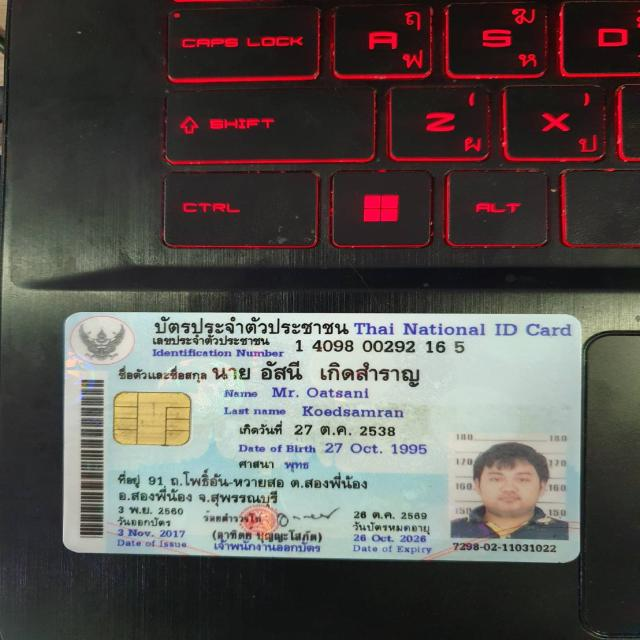Address_th: (114, 467, 374, 507)
Date_of_Birth: (318, 438, 434, 460)
Date_of_Expiry: (345, 531, 437, 545)
Date_of_Issue: (114, 524, 188, 542)
First_Name: (266, 383, 374, 402)
ID_Number: (289, 336, 473, 358)
Image: (449, 430, 572, 542)
Last_Name: (296, 403, 412, 421)
Thai_Name: (210, 357, 425, 389)
